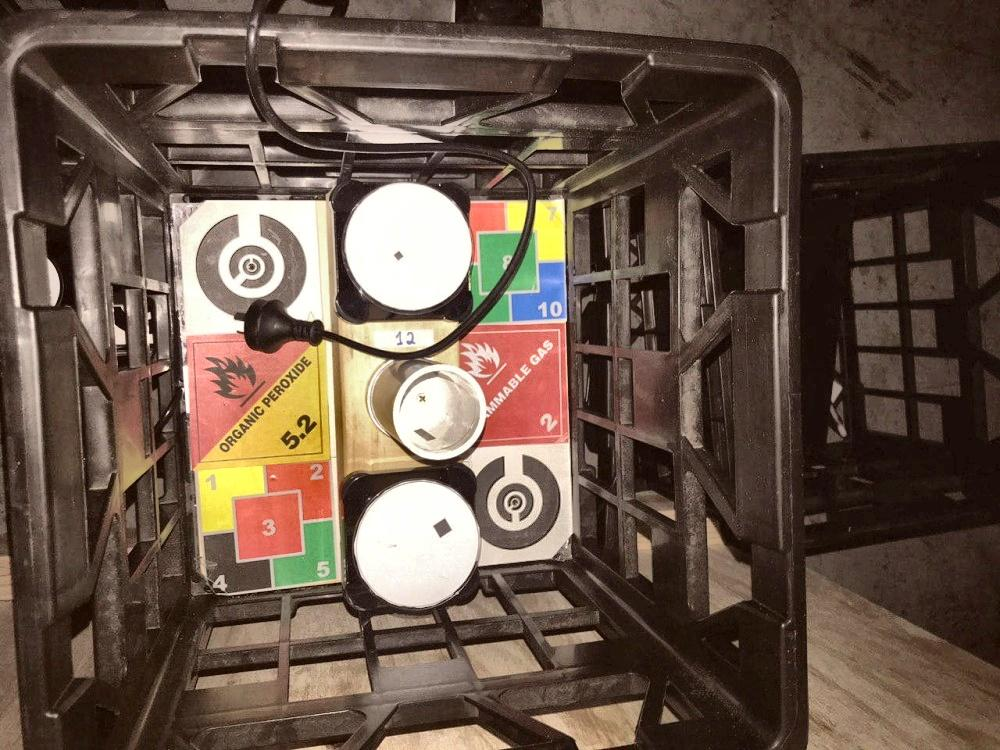flammable: (460, 326, 571, 448)
organic-peroxide: (186, 332, 334, 465)
